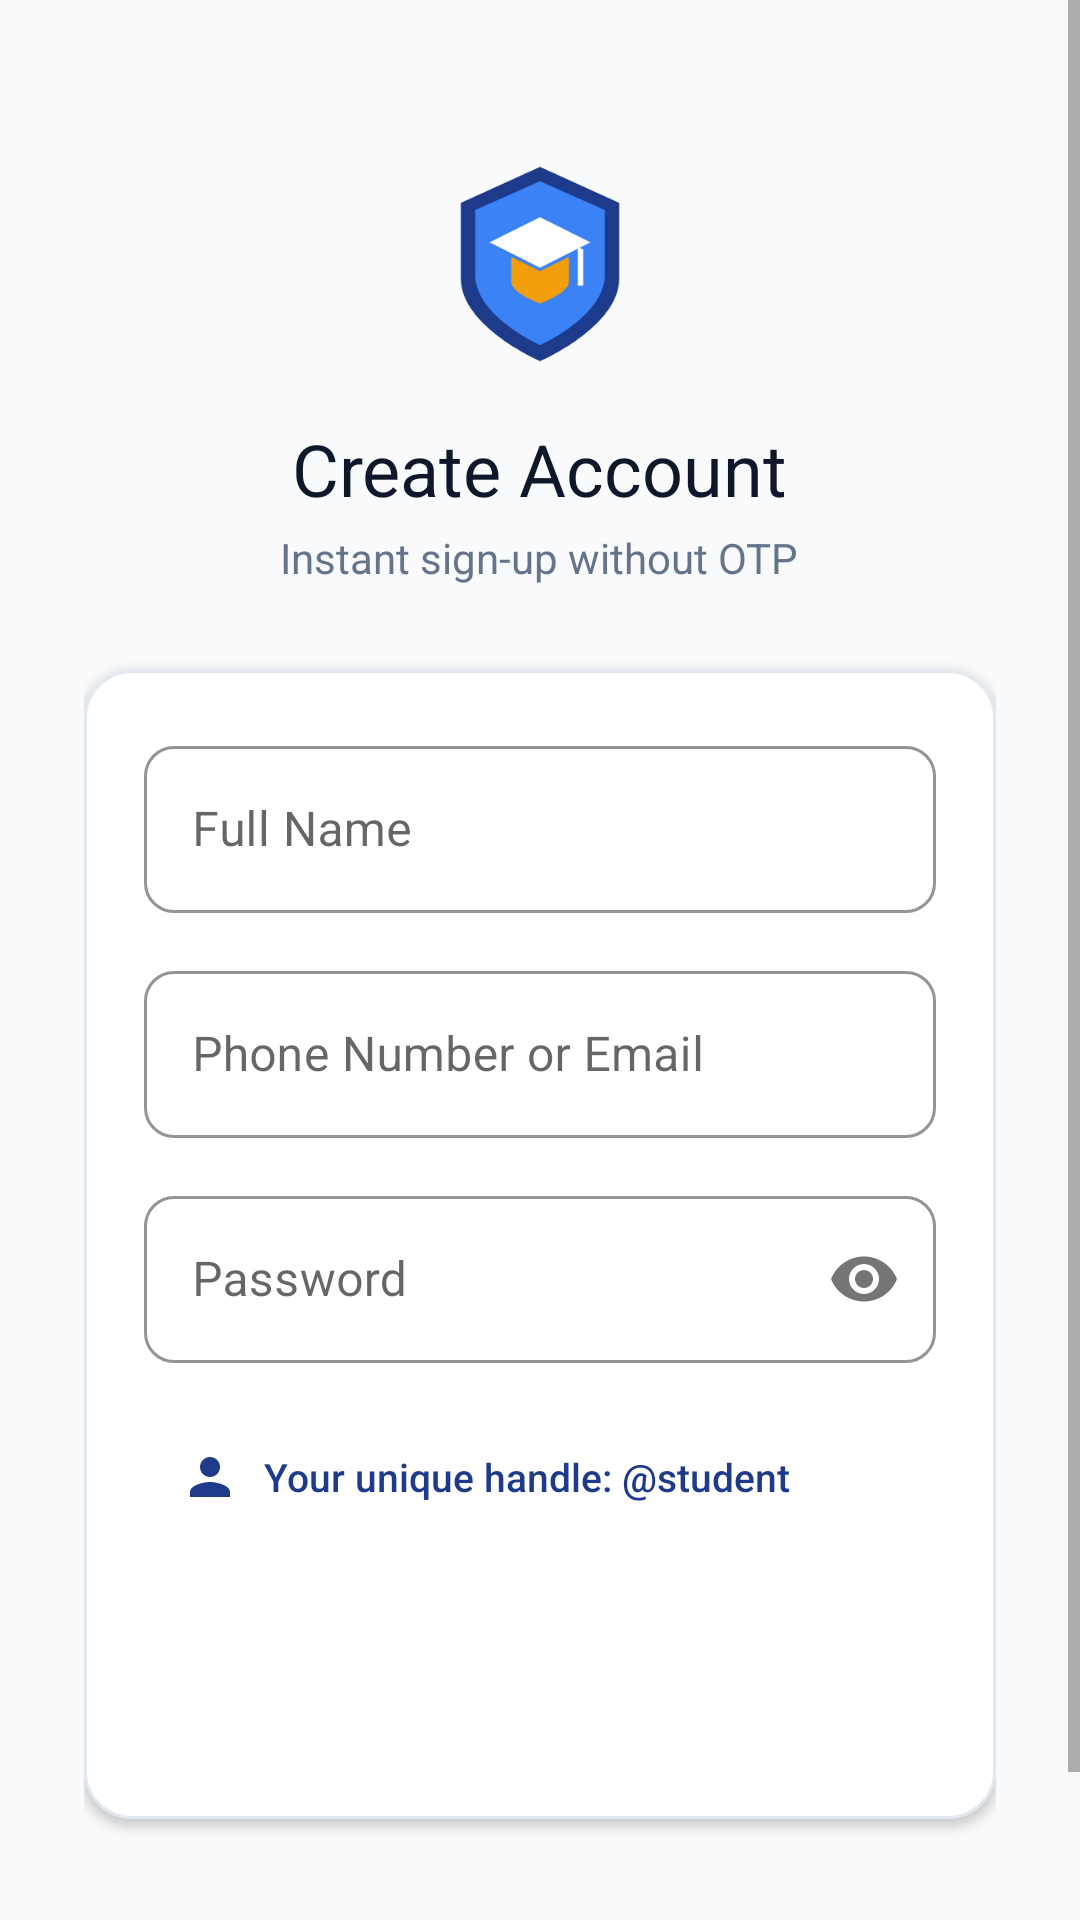

Point at icon controls on the screen. Image size 1080×1920, points as point (x, y).
Handle Preview: point (210, 1477)
